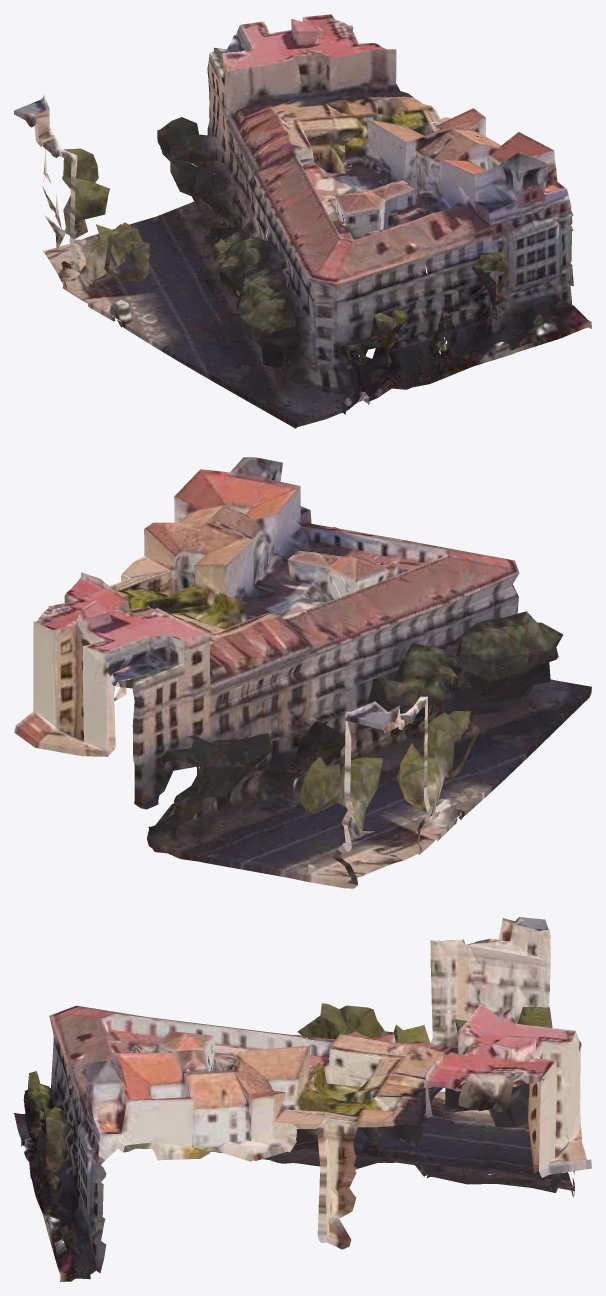
3 views of the same model, one above another, from view 1: azimuth 30°, elevation 25°; view 2: azimuth 150°, elevation 25°; view 3: azimuth 270°, elevation 25° (orthographic). The views are drawn at different scales.
Visible parts, largest first — view 1: Mesh_0; view 2: Mesh_0; view 3: Mesh_0.
Boxes of the visible parts, box(x1,y1,x2,y2) form: Mesh_0: box(14, 14, 591, 428); Mesh_0: box(14, 457, 591, 888); Mesh_0: box(14, 917, 591, 1281).
Bounding box in the file's own units: 66.56 × 32.71 × 82.53.
1 material, 1 textured.
